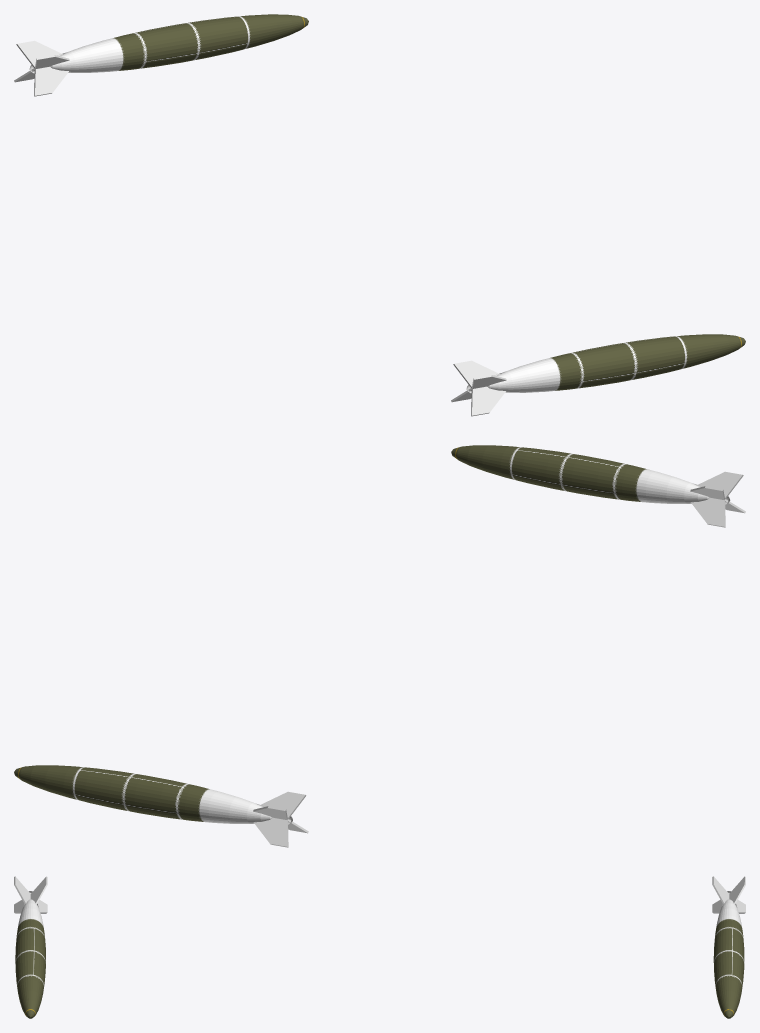
File: f35bgbu3114.glb
The picture shows the model from 3 angles, top to bottom: view 1: azimuth 30°, elevation 25°; view 2: azimuth 150°, elevation 25°; view 3: azimuth 270°, elevation 25°; orthographic projection. The views are drawn at different scales.
Visible parts, largest first — view 1: 立方体.009, 立方体.010; view 2: 立方体.010, 立方体.009; view 3: 立方体.010, 立方体.009.
Boxes of the visible parts, x1=… form: 立方体.009: x1=451, y1=334, x2=745, y2=416; 立方体.010: x1=14, y1=14, x2=308, y2=96; 立方体.010: x1=14, y1=765, x2=308, y2=847; 立方体.009: x1=451, y1=445, x2=745, y2=527; 立方体.010: x1=712, y1=876, x2=745, y2=1018; 立方体.009: x1=14, y1=876, x2=47, y2=1018.
Size of the model in its own units: 3.81 by 0.6325 by 10.63.
1 material, 1 textured.
